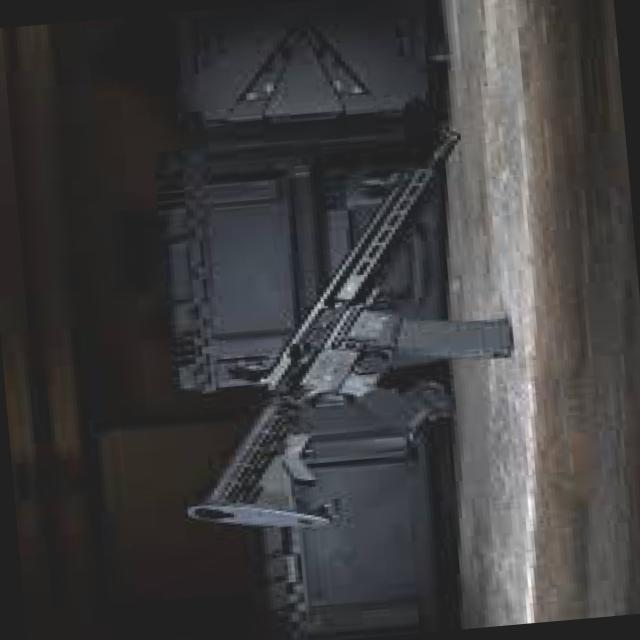long weapon: (175, 114, 567, 539)
